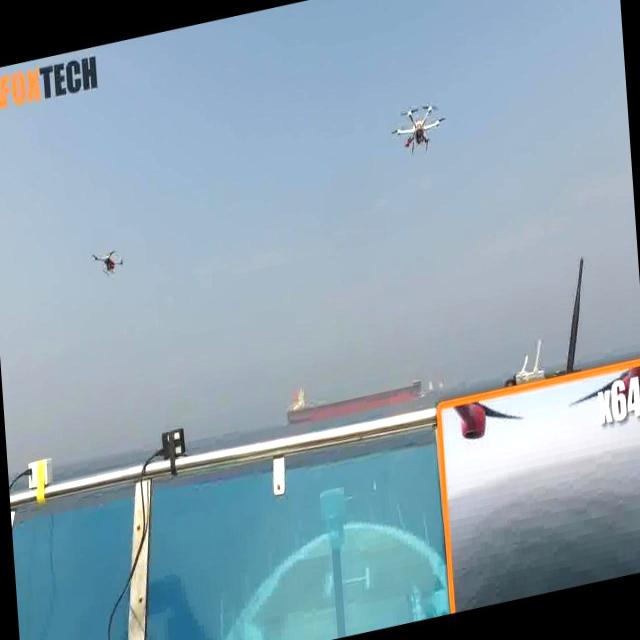drone: (384, 85, 455, 168), (83, 241, 127, 287)
